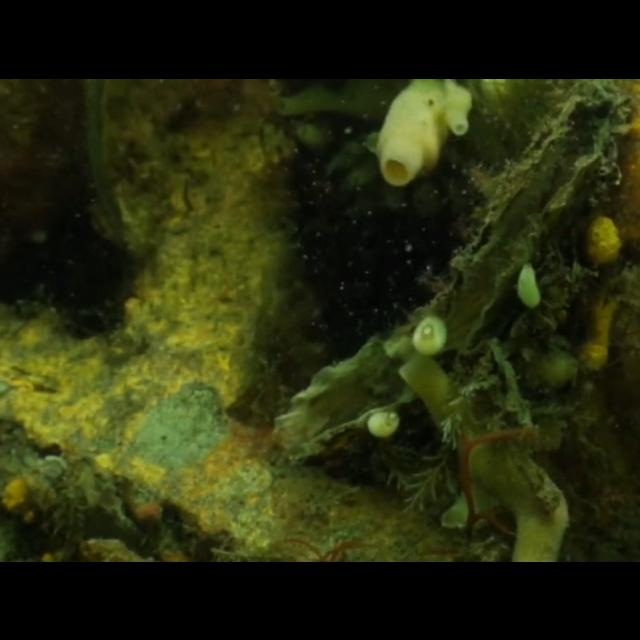Oyster-Open: (382, 78, 632, 382), (267, 330, 423, 464)
